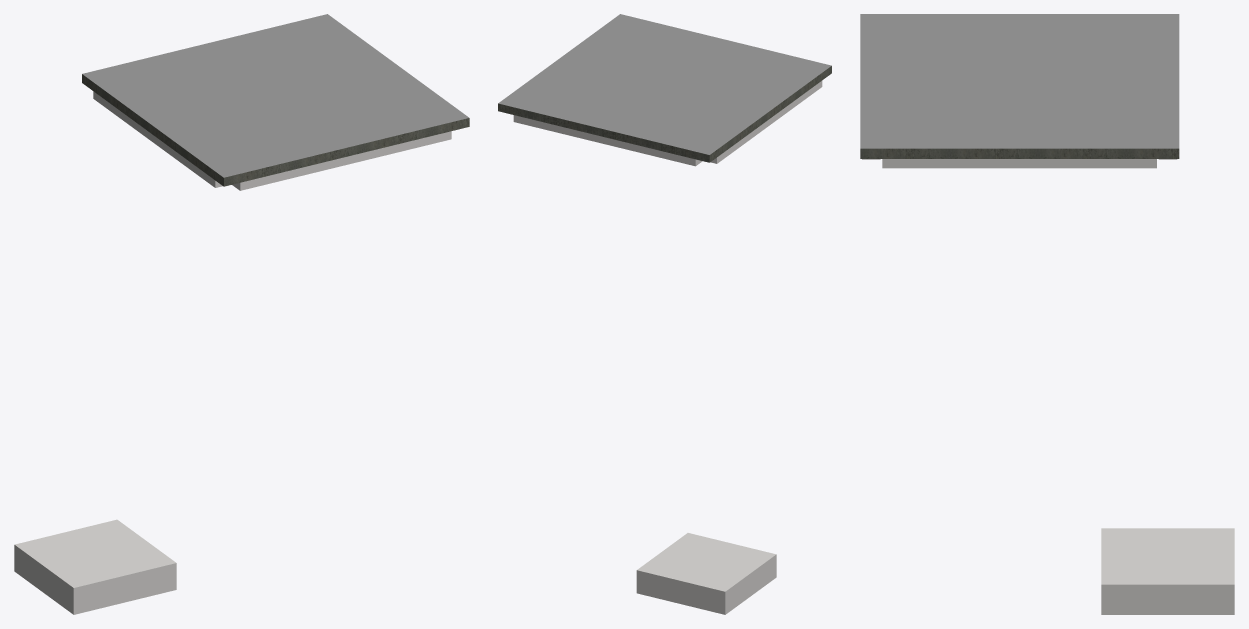
3 renders of one model, left to right at view 1: azimuth 30°, elevation 25°; view 2: azimuth 150°, elevation 25°; view 3: azimuth 270°, elevation 25°, orthographic. The views are drawn at different scales.
Visible parts, largest first — view 1: Floor Normal Slab 150mm [390246]001, Footing-Rectangular 1800 x 1800 x 450mm [329140]001, Concrete - Rectangular Beam 250 x 300mm [381490]001, Concrete - Rectangular Beam 250 x 300mm [381450]001; view 2: Floor Normal Slab 150mm [390246]001, Footing-Rectangular 1800 x 1800 x 450mm [329140]001, Concrete - Rectangular Beam 250 x 300mm [381347]001, Concrete - Rectangular Beam 250 x 300mm [381450]001; view 3: Floor Normal Slab 150mm [390246]001, Footing-Rectangular 1800 x 1800 x 450mm [329140]001, Concrete - Rectangular Beam 250 x 300mm [381404]001.
Boxes of the visible parts, bbox=[...] form: Floor Normal Slab 150mm [390246]001: bbox=[82, 14, 469, 186]; Footing-Rectangular 1800 x 1800 x 450mm [329140]001: bbox=[14, 519, 176, 614]; Concrete - Rectangular Beam 250 x 300mm [381490]001: bbox=[232, 131, 451, 190]; Concrete - Rectangular Beam 250 x 300mm [381450]001: bbox=[93, 91, 222, 187]; Floor Normal Slab 150mm [390246]001: bbox=[498, 14, 831, 162]; Footing-Rectangular 1800 x 1800 x 450mm [329140]001: bbox=[636, 533, 776, 614]; Concrete - Rectangular Beam 250 x 300mm [381347]001: bbox=[513, 115, 702, 166]; Concrete - Rectangular Beam 250 x 300mm [381450]001: bbox=[711, 81, 822, 163]; Floor Normal Slab 150mm [390246]001: bbox=[860, 14, 1179, 158]; Footing-Rectangular 1800 x 1800 x 450mm [329140]001: bbox=[1101, 528, 1234, 614]; Concrete - Rectangular Beam 250 x 300mm [381404]001: bbox=[882, 159, 1156, 168].
Size of the model in its own units: 5.05 by 8.45 by 5.05.
4 materials, 2 textured.
